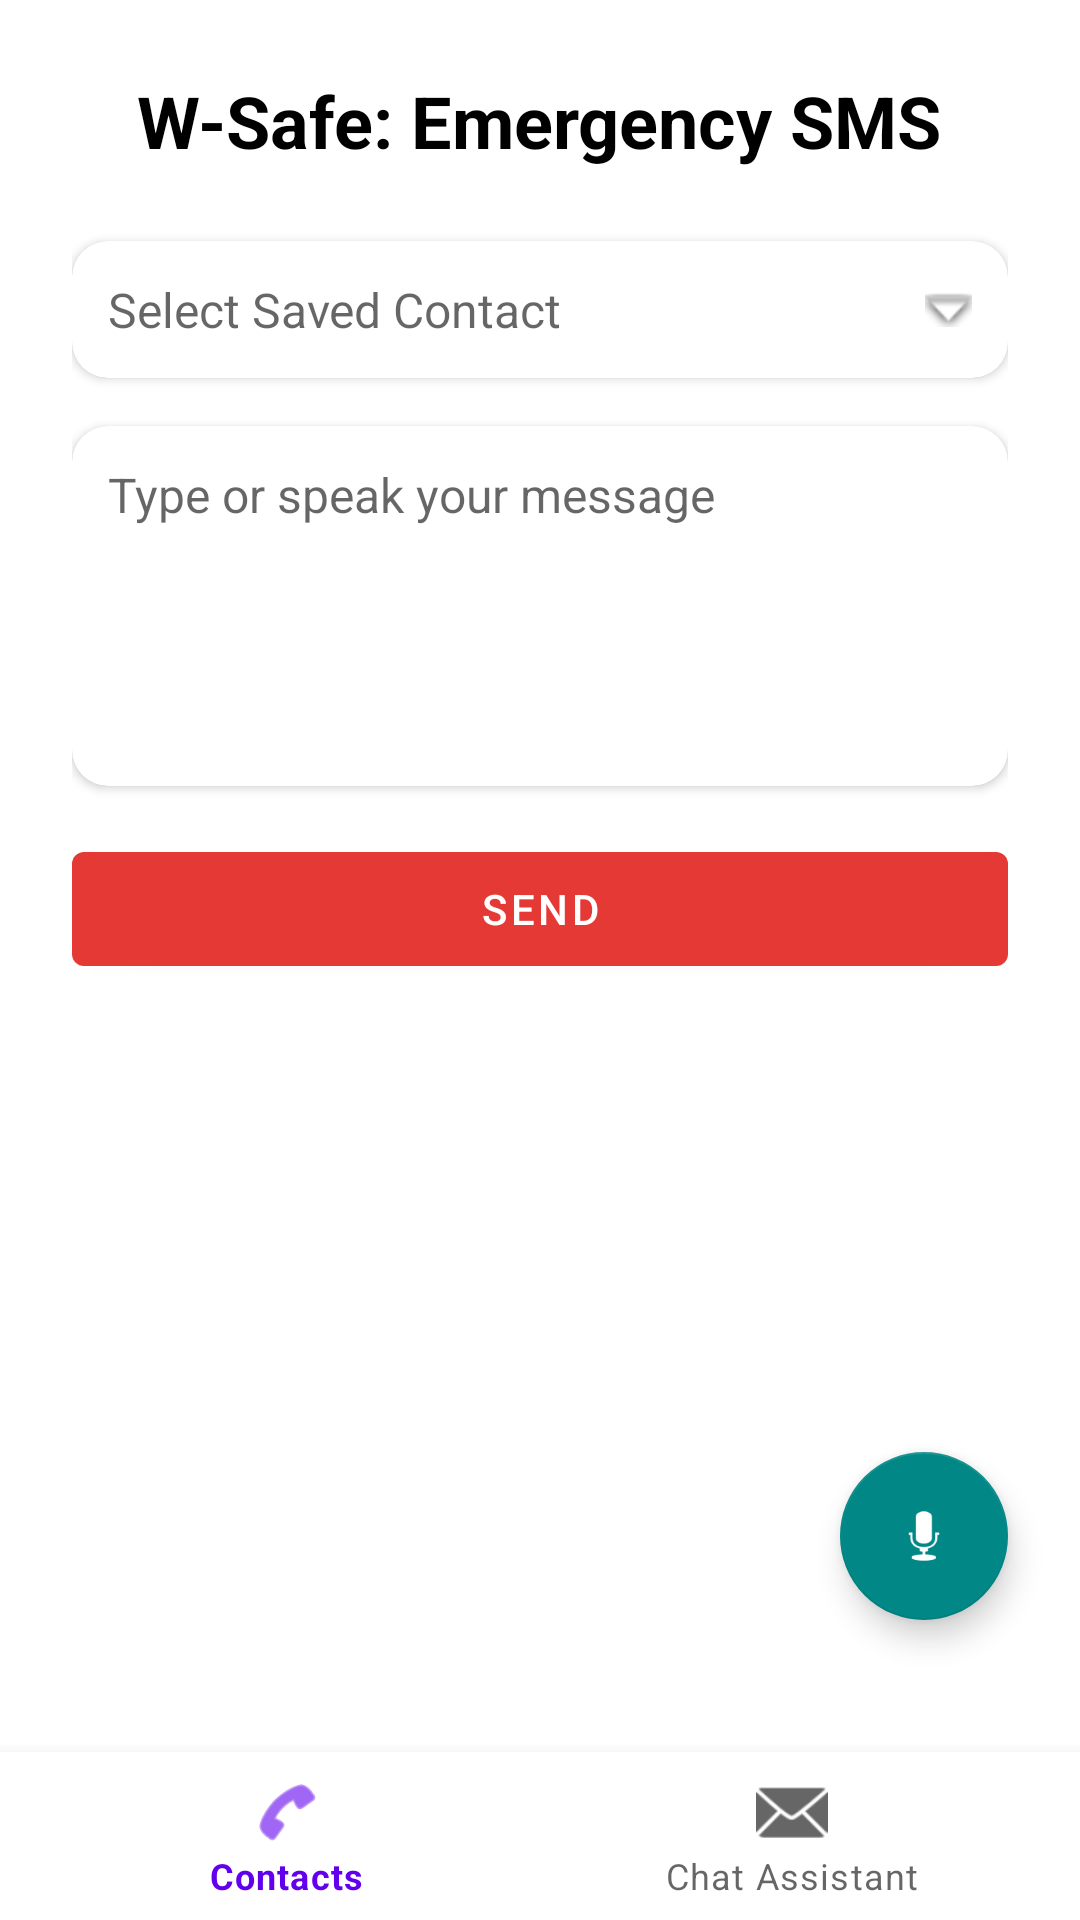

Named icons in this screenshot (1080 × 1920) and their centers, (x=x, y=y):
speak now: (x=924, y=1536)
